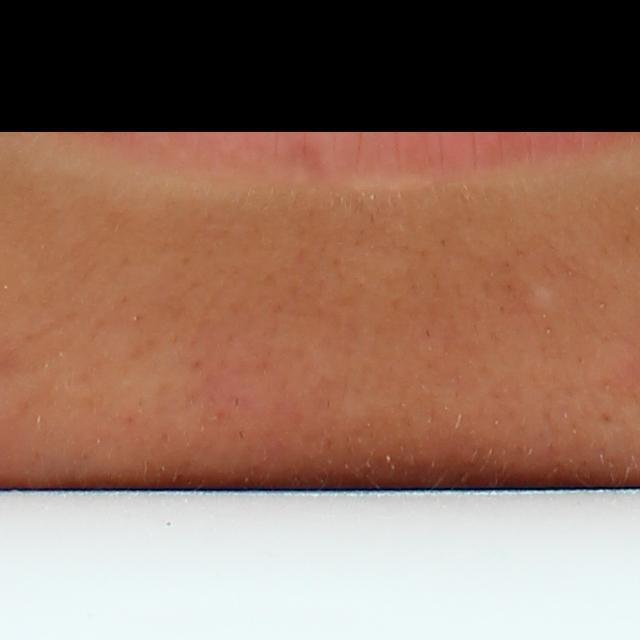hypertrophic_scar: (511, 274, 561, 315)
